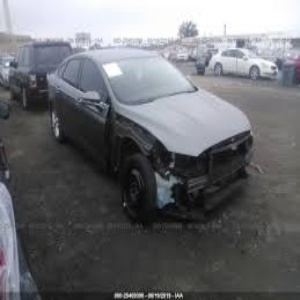bumper: (162, 134, 260, 217)
